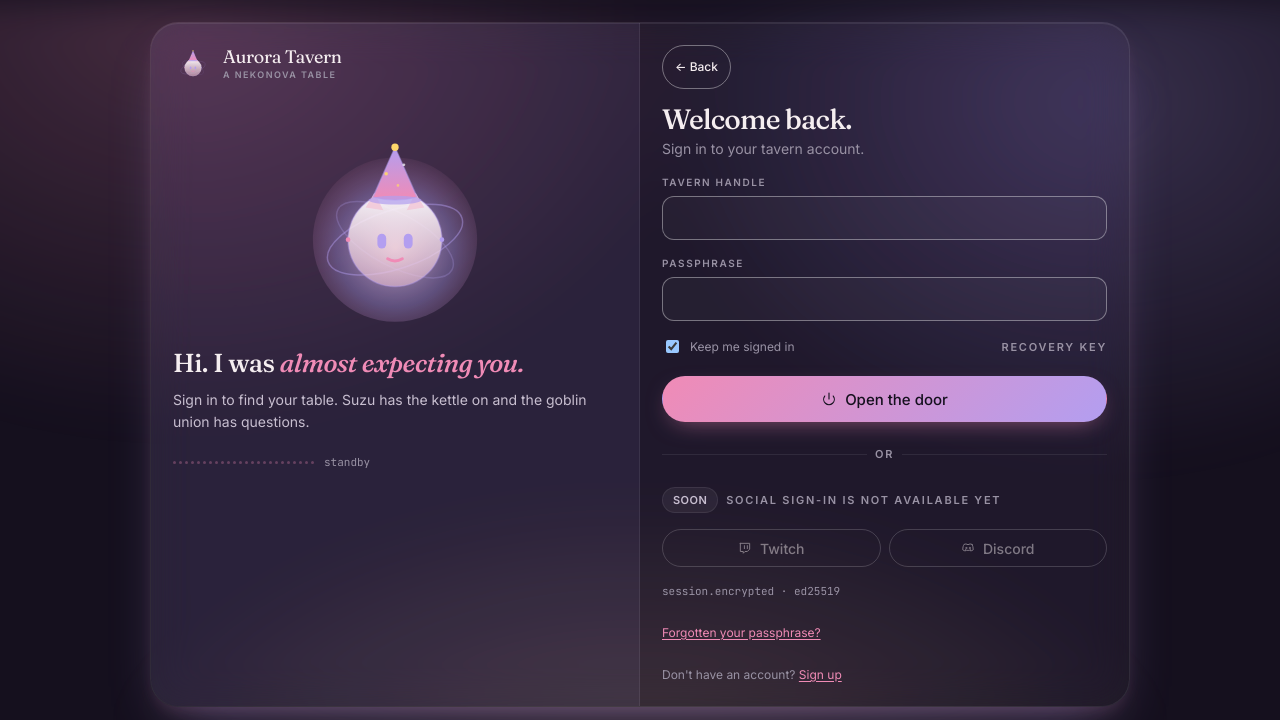
Test: the BFF guard refusing the request (403) is not worded as a network failure
Type "alice" into the field labelled "Tavern handle" at (884, 218), box [662, 196, 1107, 240]
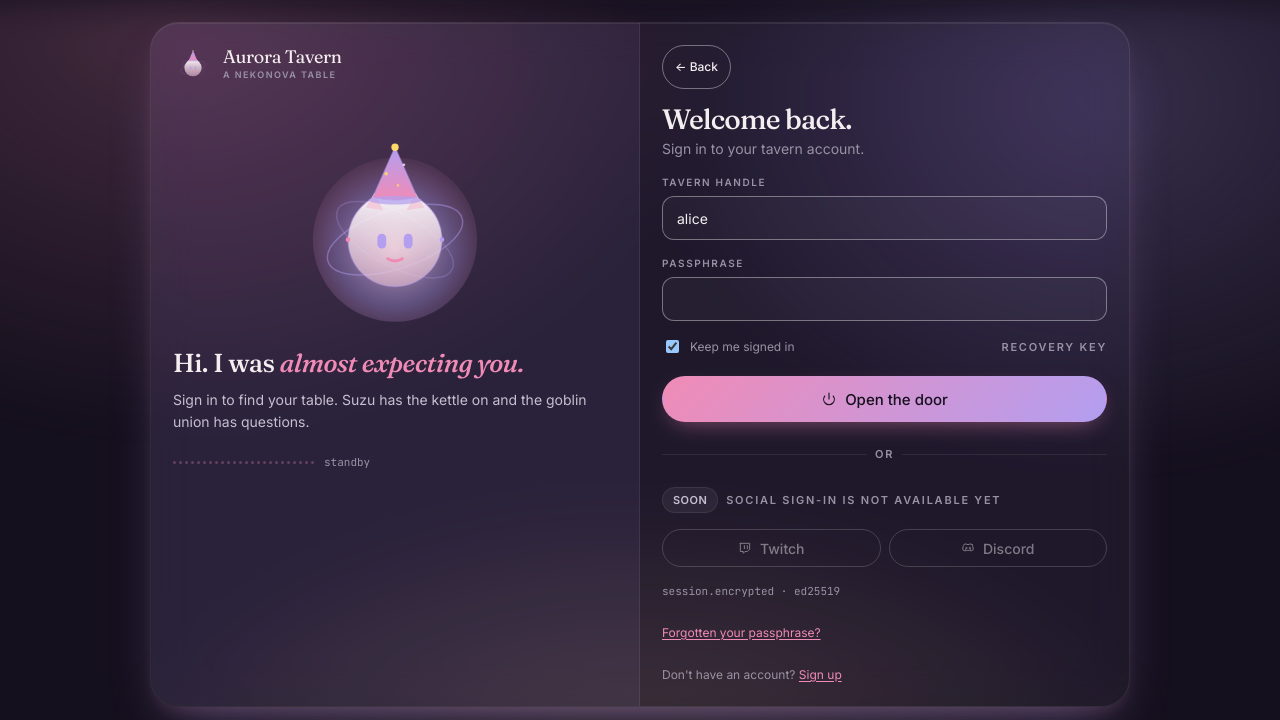
Type "right-one" into the password field labelled "Passphrase" at (884, 299), box [662, 277, 1107, 321]
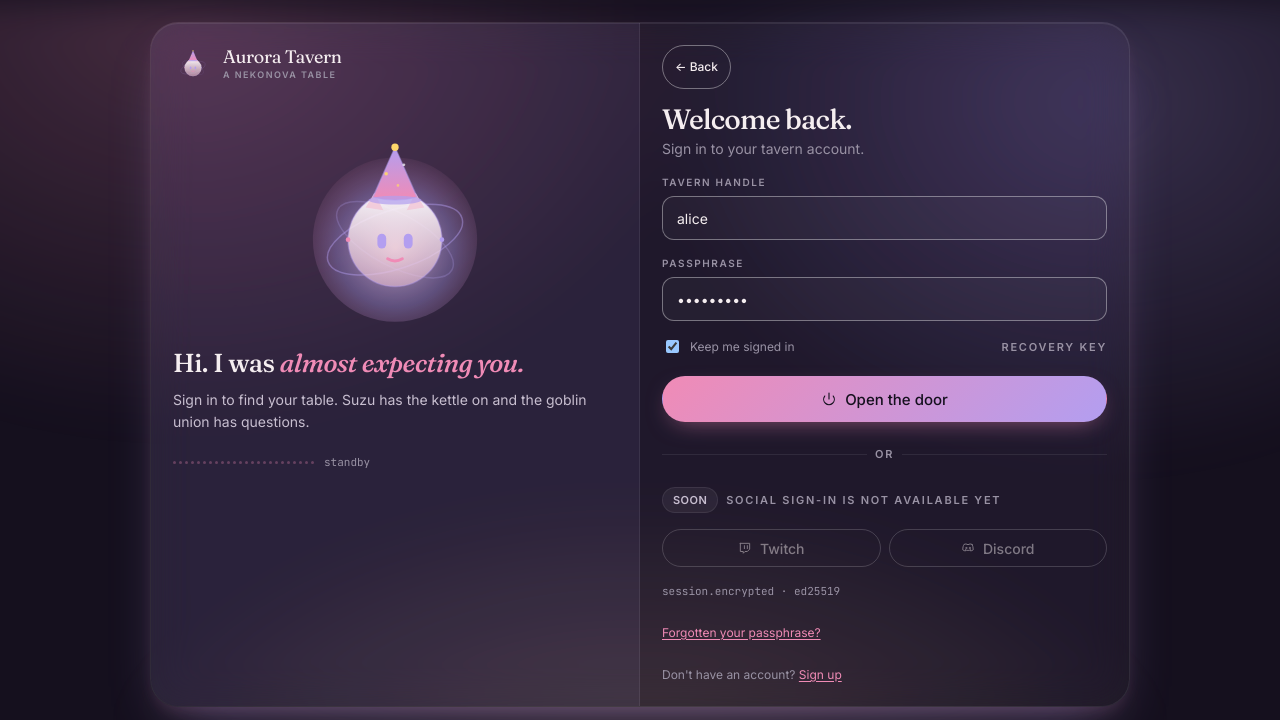
Submit the form labelled "Tavern handle", box [640, 23, 1129, 706]
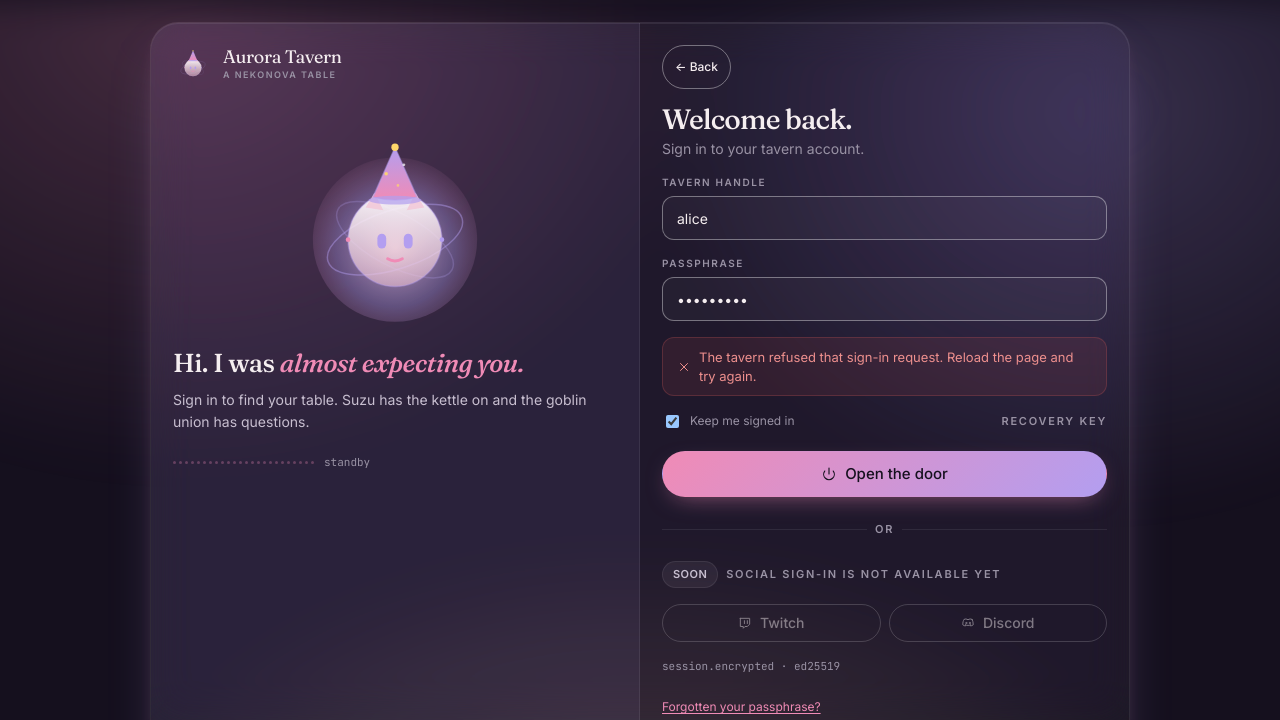
Expected: the message reads "The tavern refused that sign-in request. Reload the page and try again.", [699, 349, 1073, 384]
